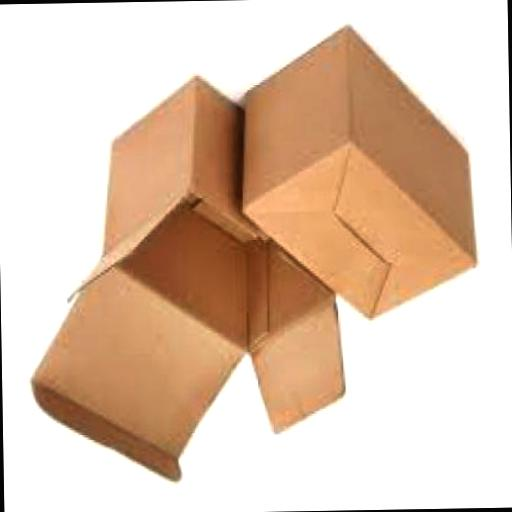cardboard: (24, 79, 346, 489), (235, 23, 478, 325)
